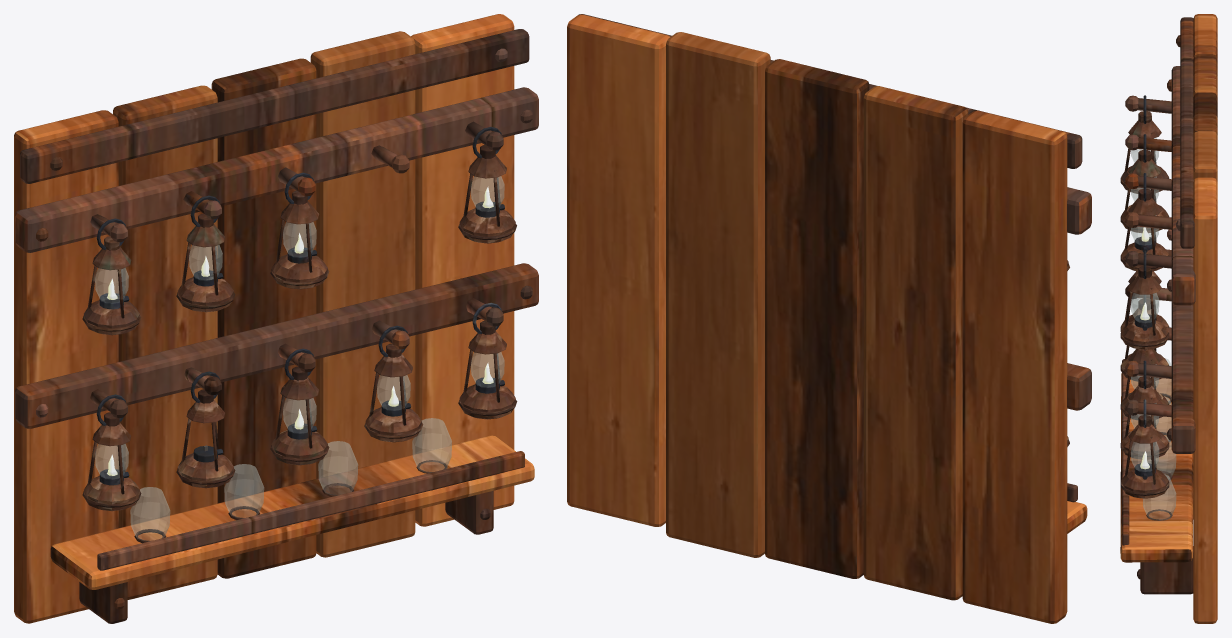
The model's file is lw_lamp_rack_wall.glb.
3 renders of one model, left to right at view 1: azimuth 30°, elevation 25°; view 2: azimuth 150°, elevation 25°; view 3: azimuth 270°, elevation 25°, orthographic. The views are drawn at different scales.
Parts seen in each view (by area): view 1: model; view 2: model; view 3: model.
Boxes of the visible parts, <box> form: model: <box>14,14,538,623</box>; model: <box>567,14,1091,623</box>; model: <box>1120,14,1217,623</box>.
Bounding box in the file's own units: 1.04 × 0.9644 × 0.2009.
23 materials, 9 textured.
